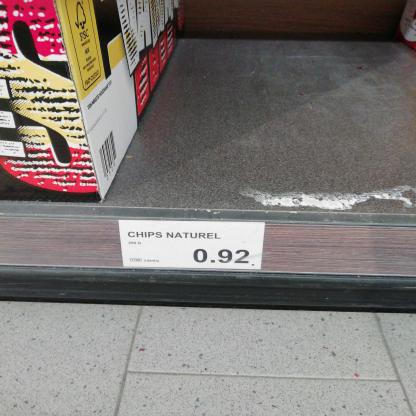prtg: (119, 221, 266, 271)
